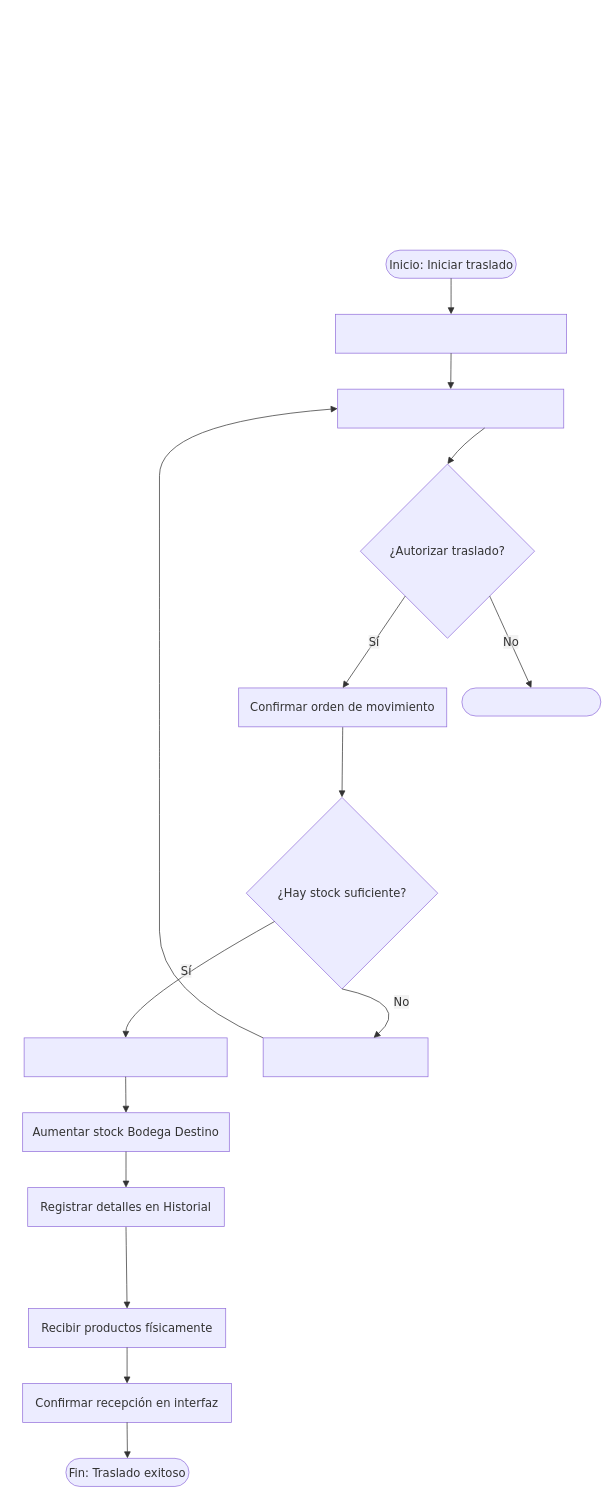
Some shapes in this 613 by 1499 pixel diagram are drawn without their labels. Here are the shapes that lost their labels. From the top down, the box of each, then its label:
(335, 314, 567, 353): Seleccionar Bodega Origen y Destino
(337, 388, 564, 428): Seleccionar Productos y Cantidades
(461, 687, 601, 716): Fin: Traslado cancelado
(23, 1037, 227, 1077): Descontar stock Bodega Origen
(262, 1037, 428, 1077): Generar alerta de error
